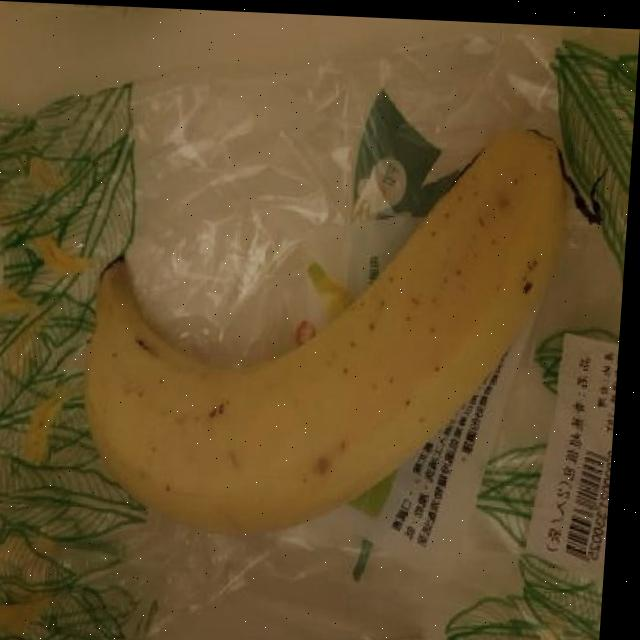banana: (62, 92, 582, 557)
